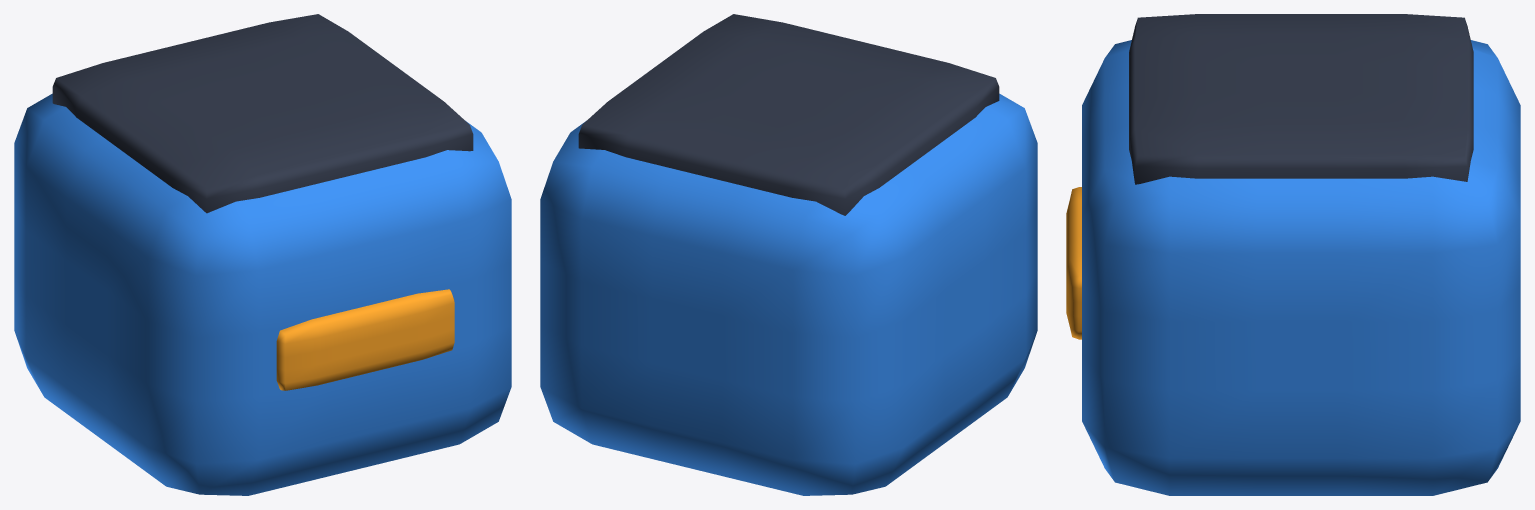
File: shoulder_pad.obj
3 views of the same model, side by side, from view 1: azimuth 30°, elevation 25°; view 2: azimuth 150°, elevation 25°; view 3: azimuth 270°, elevation 25° (orthographic). The views are drawn at different scales.
Bounding box in the file's own units: 0.28 × 0.25 × 0.29.
